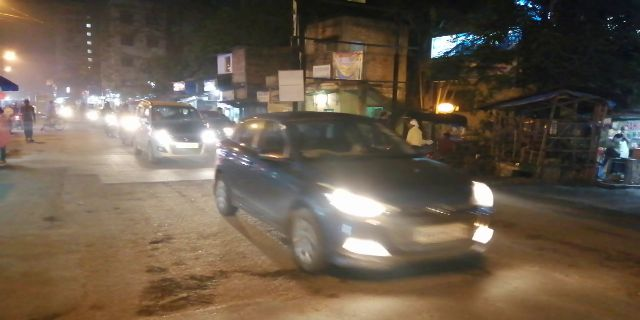Car: (224, 108, 496, 284), (128, 94, 216, 160)
